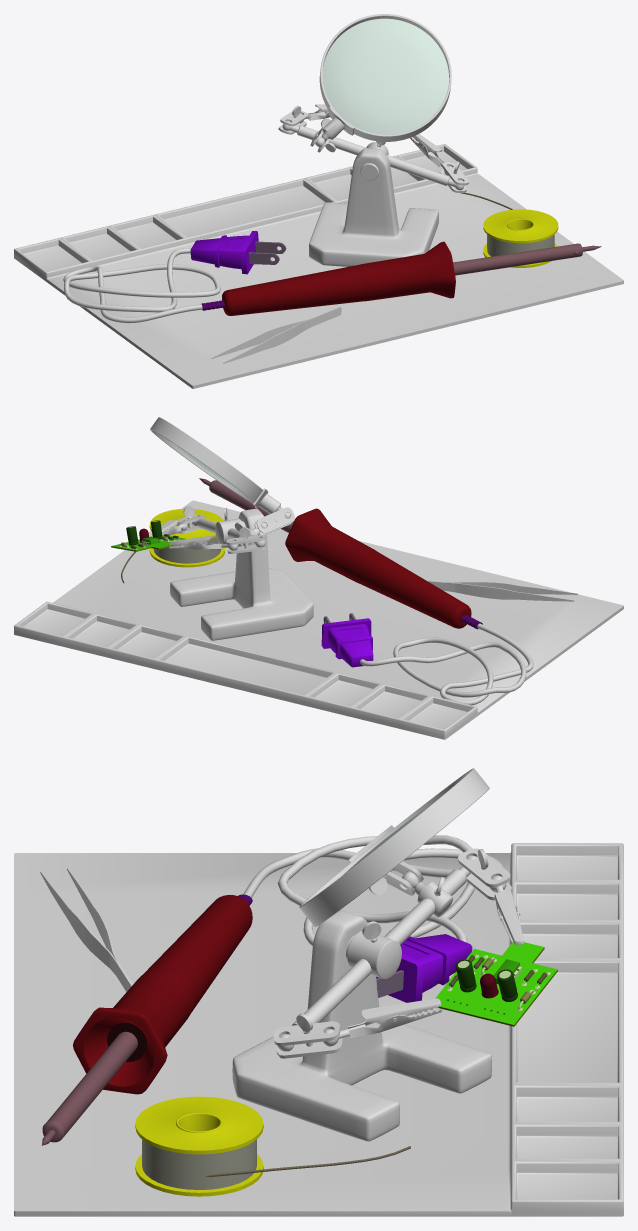
File: Soldering Station.fbx
3 renders of one model, top to bottom at view 1: azimuth 30°, elevation 25°; view 2: azimuth 150°, elevation 25°; view 3: azimuth 270°, elevation 25°, orthographic. The views are drawn at different scales.
Parts seen in each view (by area): view 1: Mat, Glass, Soldering iron, Base, WirePlug, IronTin, Plug, GlassClamp, Tweezers, Mainframe, GlassClampHolder; view 2: Mat, Soldering iron, Base, WirePlug, GlassClamp, IronTin, Plug, Tweezers, Board, ConnectionPiece.001, ConnectionPiece.000; view 3: Mat, Base, Soldering iron, IronTin, GlassClamp, Board, WirePlug, Plug, Mainframe, Tweezers, ConnectionPiece.003, Connector (+6 smaller).
Boxes of the visible parts, <box> form: Mat: <box>14,144,623,388</box>; Glass: <box>322,18,449,134</box>; Soldering iron: <box>201,241,601,315</box>; Base: <box>309,148,438,266</box>; WirePlug: <box>63,248,220,323</box>; IronTin: <box>460,192,558,267</box>; Plug: <box>190,231,286,274</box>; GlassClamp: <box>319,14,451,141</box>; Tweezers: <box>211,306,341,363</box>; Mainframe: <box>282,121,464,190</box>; GlassClampHolder: <box>315,106,354,147</box>; Mat: <box>14,500,623,739</box>; Soldering iron: <box>199,478,482,629</box>; Base: <box>170,508,313,640</box>; WirePlug: <box>360,623,533,705</box>; GlassClamp: <box>150,417,262,503</box>; IronTin: <box>121,508,224,583</box>; Plug: <box>321,613,373,667</box>; Tweezers: <box>426,580,577,601</box>; Board: <box>111,520,185,551</box>; ConnectionPiece.001: <box>254,507,294,534</box>; ConnectionPiece.000: <box>226,535,266,553</box>; Mat: <box>14,843,623,1216</box>; Base: <box>232,910,491,1141</box>; Soldering iron: <box>41,894,252,1145</box>; IronTin: <box>135,1096,410,1196</box>; GlassClamp: <box>299,768,489,927</box>; Board: <box>435,941,557,1026</box>; WirePlug: <box>243,835,503,946</box>; Plug: <box>376,934,472,1002</box>; Mainframe: <box>277,855,476,1051</box>; Tweezers: <box>40,868,133,991</box>; ConnectionPiece.003: <box>273,1021,343,1058</box>; Connector: <box>346,931,401,978</box>.
Size of the model in its own units: 19.6 by 8.55 by 13.82.
